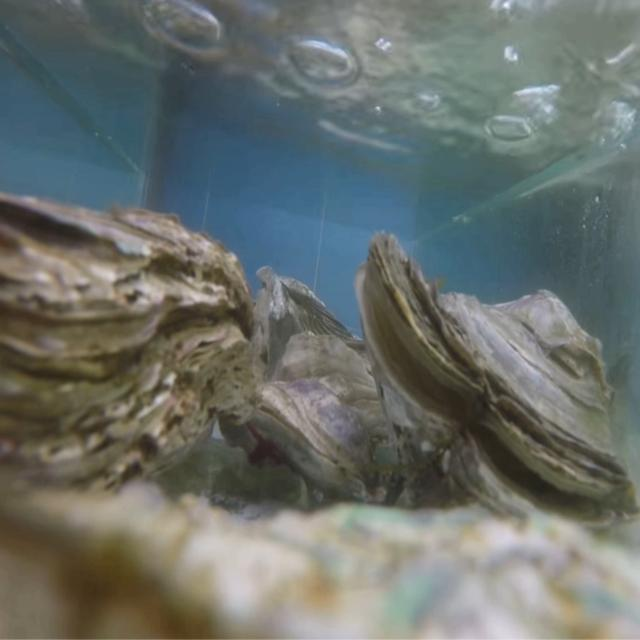Oyster-Closed: (0, 193, 257, 531), (250, 333, 414, 509)
Oyster-Indeterminate: (0, 472, 640, 640)
Oyster-Open: (355, 234, 640, 538)
